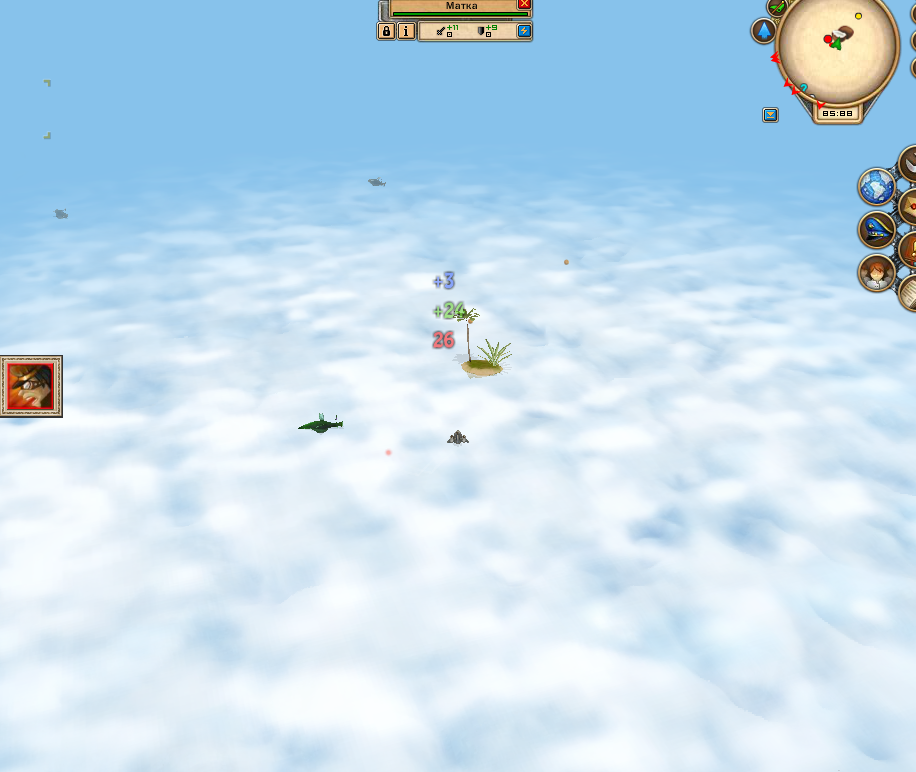coconut: (557, 257, 575, 272)
palm: (451, 305, 513, 383)
